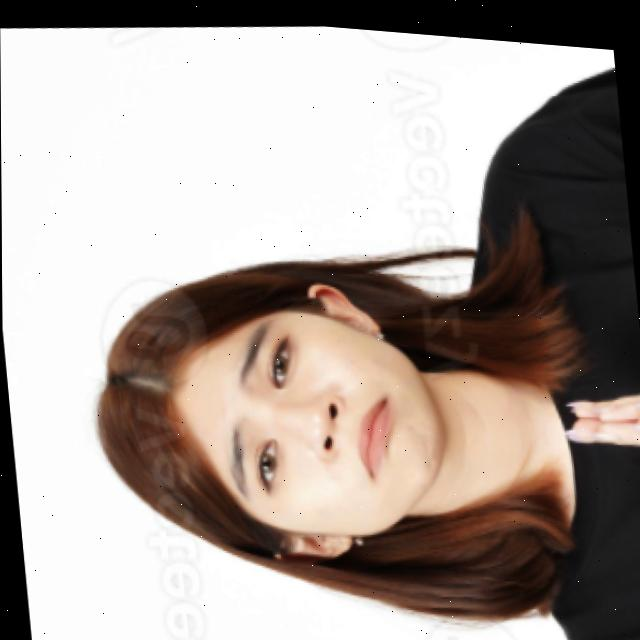sad: (164, 288, 437, 554)
